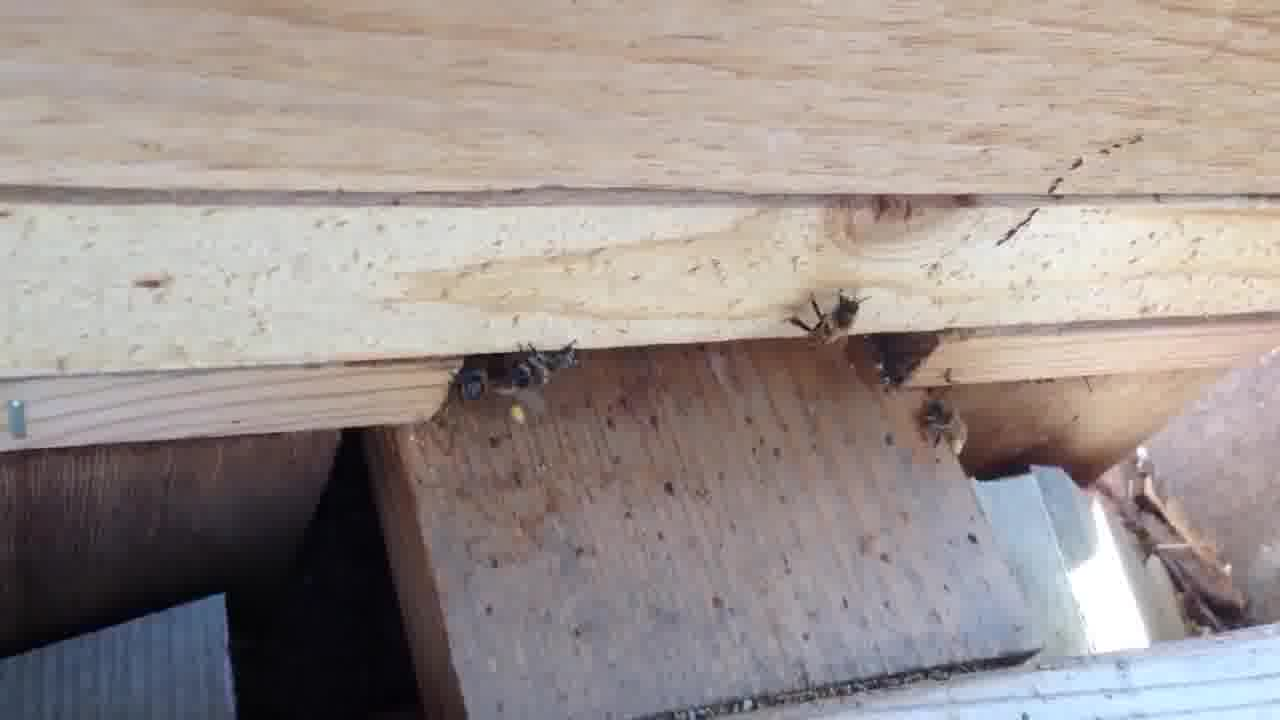pollen: (925, 397, 974, 459)
